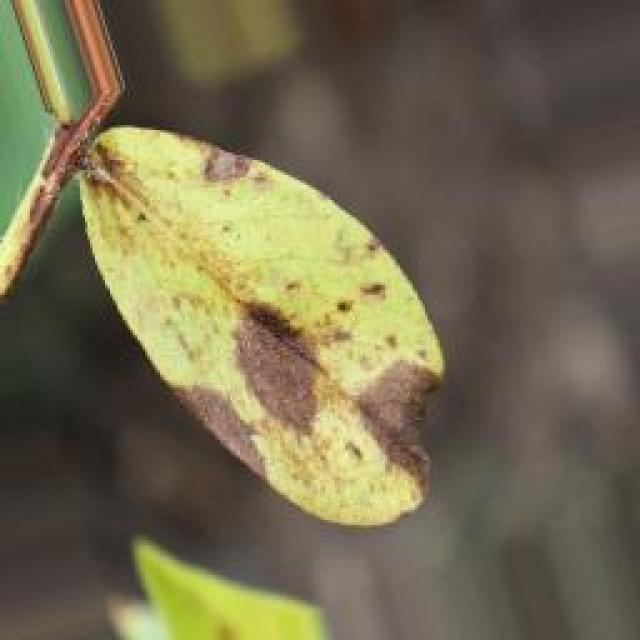Yellowish: (63, 118, 475, 536)
